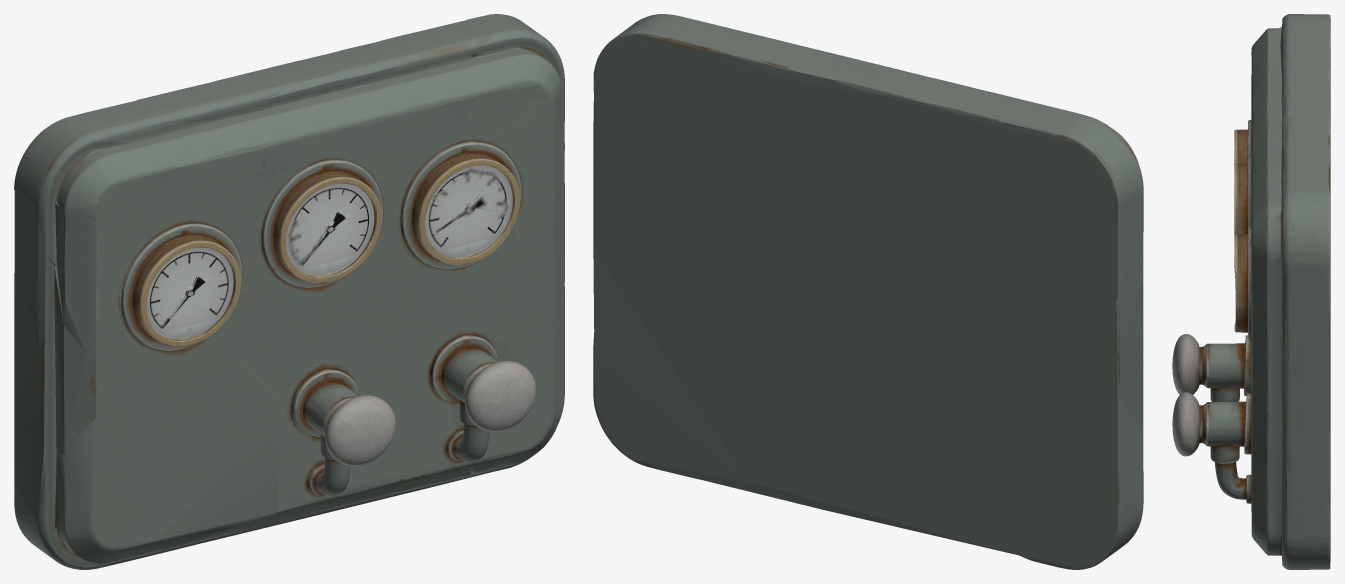
The model's file is quadro_strumenti.glb.
3 views of the same model, side by side, from view 1: azimuth 30°, elevation 25°; view 2: azimuth 150°, elevation 25°; view 3: azimuth 270°, elevation 25° (orthographic). The views are drawn at different scales.
Visible parts, largest first — view 1: Mesh_0; view 2: Mesh_0; view 3: Mesh_0.
Part boxes in pixels (x1=…): Mesh_0: x1=14, y1=14, x2=564, y2=569; Mesh_0: x1=593, y1=14, x2=1143, y2=569; Mesh_0: x1=1172, y1=14, x2=1330, y2=569.
Size of the model in its own units: 1.9 by 1.51 by 0.5771.
Materials: 1 (1 with a texture image).
